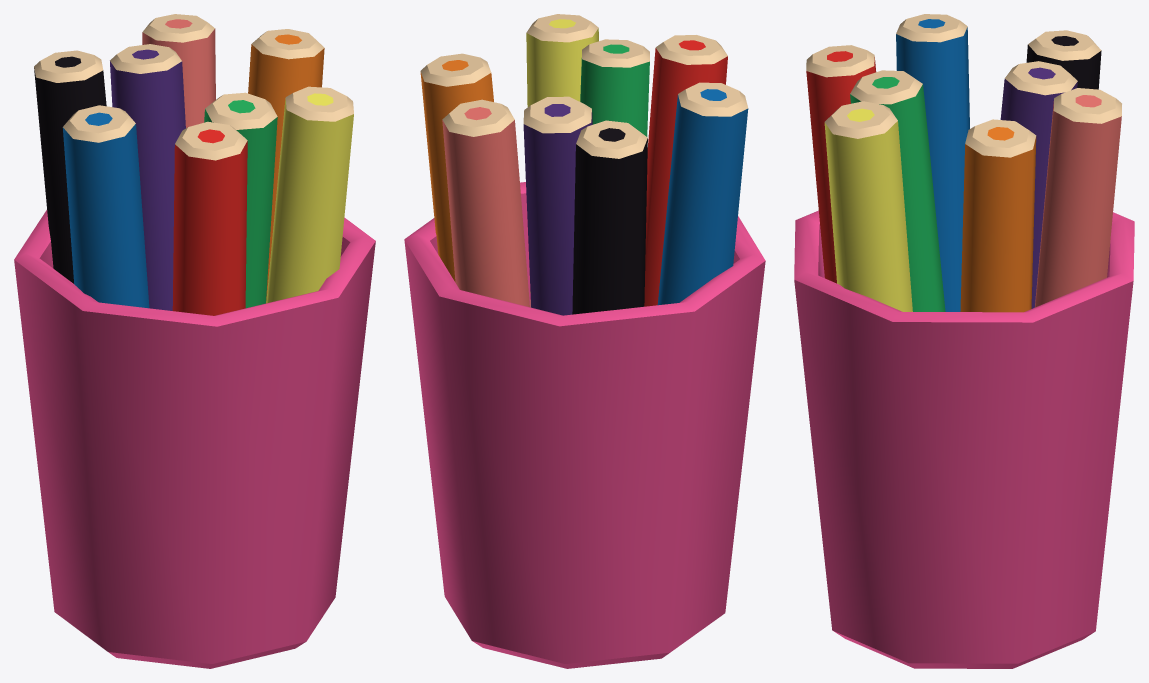
Rendered from Pencils_2.fbx.
3 renders of one model, left to right at view 1: azimuth 30°, elevation 25°; view 2: azimuth 150°, elevation 25°; view 3: azimuth 270°, elevation 25°, orthographic.
Parts seen in each view (by area): view 1: Pencils_2; view 2: Pencils_2; view 3: Pencils_2.
Part boxes in pixels (x1,y1,x2,y2): Pencils_2: [14, 14, 375, 668]; Pencils_2: [404, 14, 765, 668]; Pencils_2: [794, 14, 1134, 668].
Size of the model in its own units: 0.0921 by 0.1617 by 0.0921.
